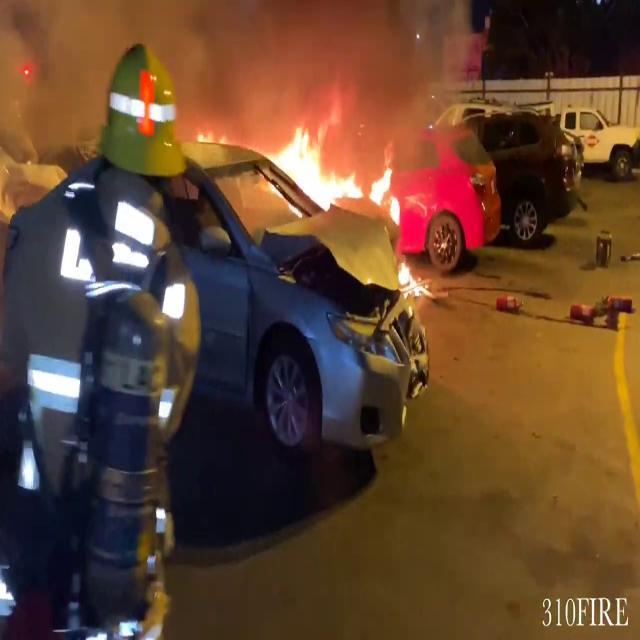Fire: (263, 112, 397, 220)
Smoke: (155, 0, 464, 140)
